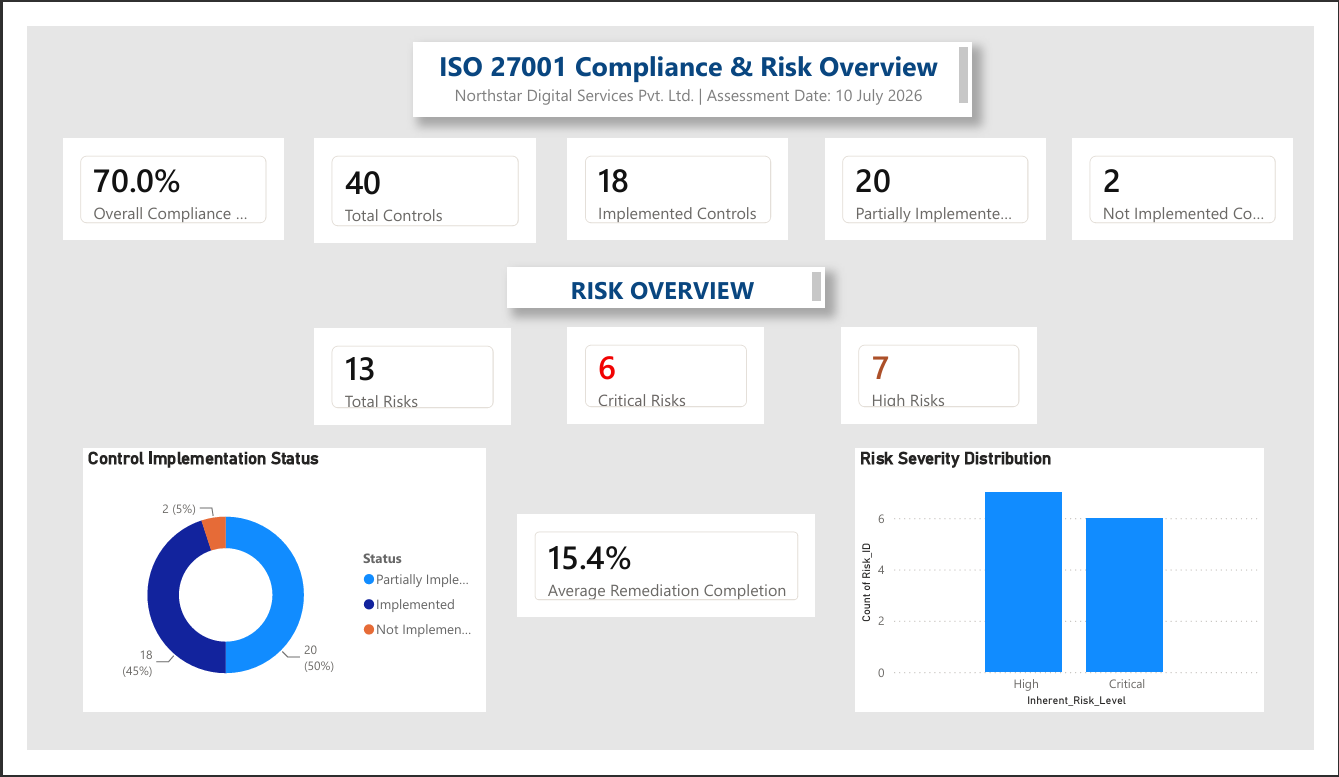

The page's visual inventory and layout, read from the dashboard file:
{"tool":"powerbi","page":{"name":"Executive Compliance Overview","canvas":[1280,720],"ordinal":0},"visuals":[{"type":"textbox","box":[384,16,556,74],"z":0},{"type":"cardVisual","fields":{"Data":["GapAssessment.Overall Compliance Score"]},"box":[36,112,219,101],"z":1000},{"type":"cardVisual","fields":{"Data":["GapAssessment.Total Controls"]},"box":[286,112,220,104],"z":2000},{"type":"cardVisual","fields":{"Data":["GapAssessment.Implemented Controls"]},"box":[538,112,219,101],"z":3000},{"type":"cardVisual","fields":{"Data":["GapAssessment.Partially Implemented Controls"]},"box":[794,112,219,101],"z":4000},{"type":"cardVisual","fields":{"Data":["GapAssessment.Not Implemented Controls"]},"box":[1040,112,219,101],"z":5000},{"type":"textbox","box":[478,240,315.6,39.7],"z":6000},{"type":"cardVisual","fields":{"Data":["Risk_Register.Total Risks"]},"box":[285.8,300.8,195,96],"z":7000},{"type":"cardVisual","fields":{"Data":["Risk_Register.Critical Risks"]},"box":[538,300,195,96],"z":8000},{"type":"cardVisual","fields":{"Data":["Risk_Register.High Risks"]},"box":[810,300,194,96],"z":9000},{"type":"donutChart","title":"Control Implementation Status","fields":{"Category":["GapAssessment.Status"],"Y":["CountNonNull(GapAssessment.Control_ID)"]},"box":[56,420,400,262],"z":10000},{"type":"clusteredColumnChart","title":"Risk Severity Distribution","fields":{"Category":["Risk_Register.Inherent_Risk_Level"],"Y":["Count(Risk_Register.Risk_ID)"]},"box":[824,420,406,262],"z":11000},{"type":"cardVisual","fields":{"Data":["Remediation_Tracker.Average Remediation Completion"]},"box":[488,486,296,102],"z":12000}]}

Visuals, with their boxes on the page's 1280x720 design canvas (x1, y1, x2, y2). These are canvas units, not pixel positions in the 1339x777 screenshot, which may show the page scaled, cropped or inside an application window:
textbox: <region>384, 16, 940, 90</region>
cardVisual - GapAssessment.Overall Compliance Score: <region>36, 112, 255, 213</region>
cardVisual - GapAssessment.Total Controls: <region>286, 112, 506, 216</region>
cardVisual - GapAssessment.Implemented Controls: <region>538, 112, 757, 213</region>
cardVisual - GapAssessment.Partially Implemented Controls: <region>794, 112, 1013, 213</region>
cardVisual - GapAssessment.Not Implemented Controls: <region>1040, 112, 1259, 213</region>
textbox: <region>478, 240, 794, 280</region>
cardVisual - Risk_Register.Total Risks: <region>286, 301, 481, 397</region>
cardVisual - Risk_Register.Critical Risks: <region>538, 300, 733, 396</region>
cardVisual - Risk_Register.High Risks: <region>810, 300, 1004, 396</region>
"Control Implementation Status" donutChart: <region>56, 420, 456, 682</region>
"Risk Severity Distribution" clusteredColumnChart: <region>824, 420, 1230, 682</region>
cardVisual - Remediation_Tracker.Average Remediation Completion: <region>488, 486, 784, 588</region>
